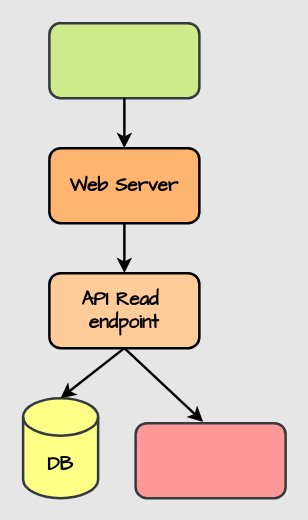
The diagram is 308 pixels wide and 520 high, and some of its shapes have lost their labels. The shapes that lost their labels are listed below. From the top down, each one's centre as x and y in pixels, then its label:
At pixel 124 60: "Client".
At pixel 210 460: "Memory Cache".
